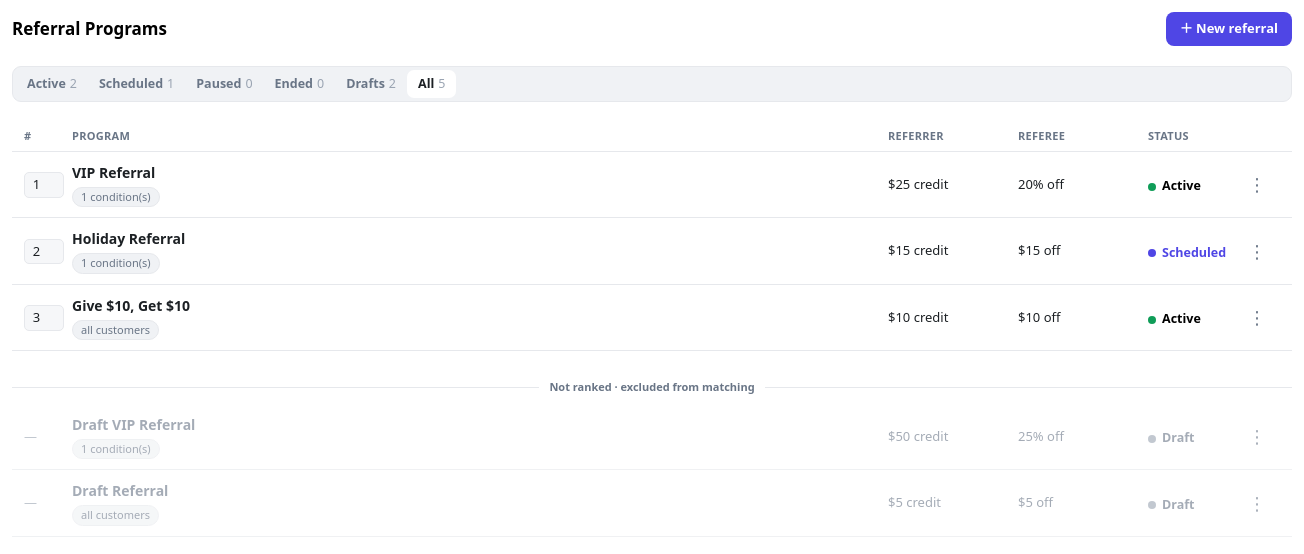
Test: a draft referral appears in the not-ranked section (Drafts filter)
Expected: the text "Draft Referral" is shown, left=72, top=481, right=168, bottom=500
Expected: the text "Not ranked · excluded from matching" is shown, left=549, top=379, right=755, bottom=396
Note: Drafts filter: only the draft shows
Click the button "Drafts2": (371, 84) left=335, top=70, right=407, bottom=98
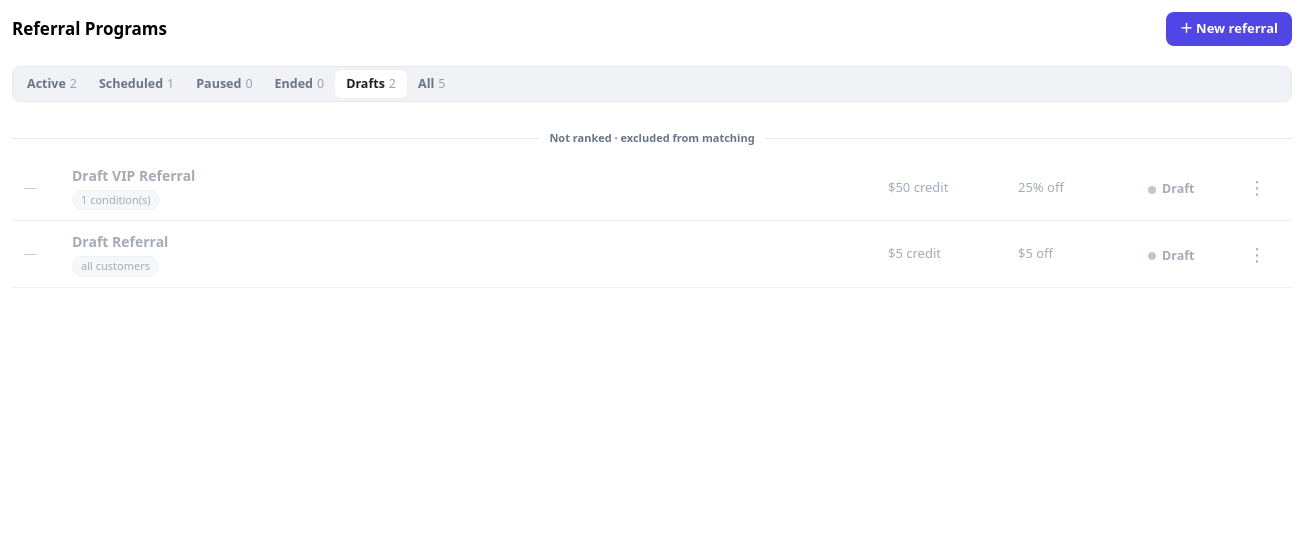
Expected: the text "Draft Referral" is shown, left=72, top=232, right=168, bottom=251
Expected: the text "Give $10, Get $10" is gone
